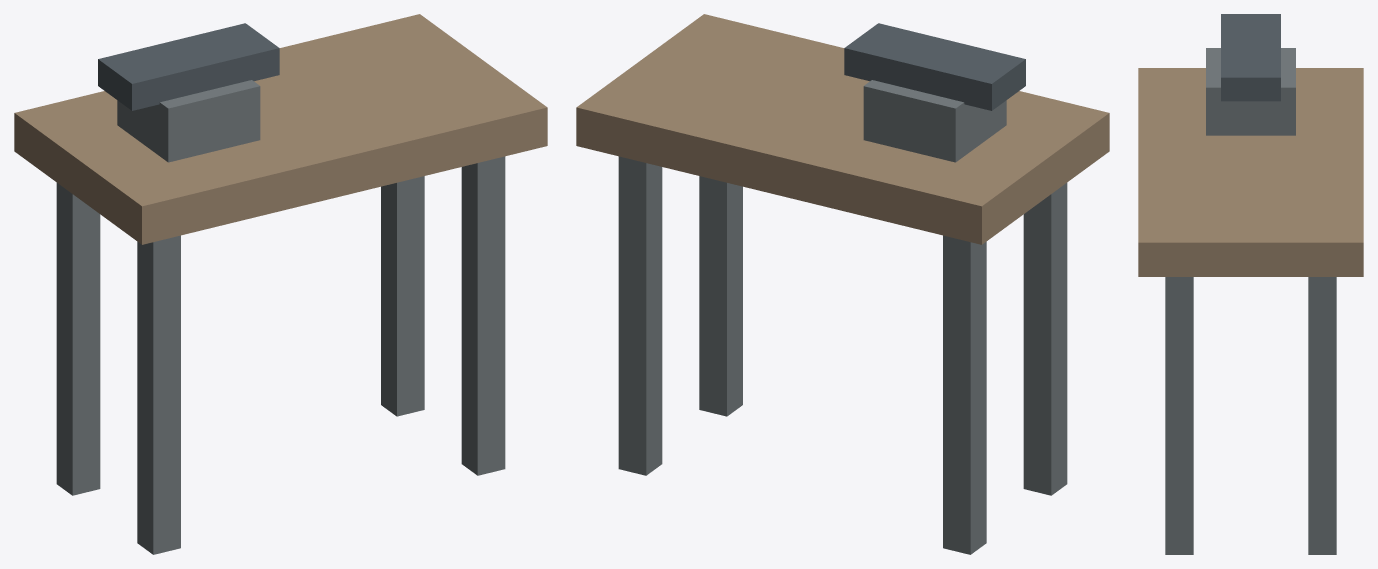
File: vise_bench.glb
3 renders of one model, left to right at view 1: azimuth 30°, elevation 25°; view 2: azimuth 150°, elevation 25°; view 3: azimuth 270°, elevation 25°, orthographic. The views are drawn at different scales.
Parts seen in each view (by area): view 1: body; view 2: body; view 3: body.
Part boxes in pixels (box(x1,y1,x2,y2)): body: box(14, 14, 547, 554); body: box(576, 14, 1109, 554); body: box(1138, 14, 1363, 554).
Bounding box in the file's own units: 1.1 × 1.15 × 0.6.
